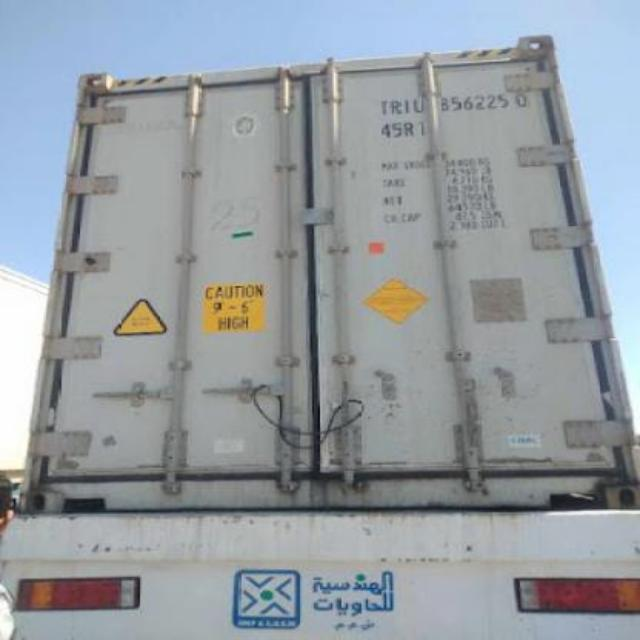0: (518, 92, 528, 108)
2: (484, 92, 498, 112), (476, 93, 484, 111)
5: (496, 92, 509, 112), (452, 94, 462, 112)
6: (464, 94, 474, 110)
8: (440, 96, 452, 110)
I: (404, 97, 414, 115)
R: (390, 100, 402, 112)
T: (378, 100, 390, 112)
U: (412, 97, 426, 113)
